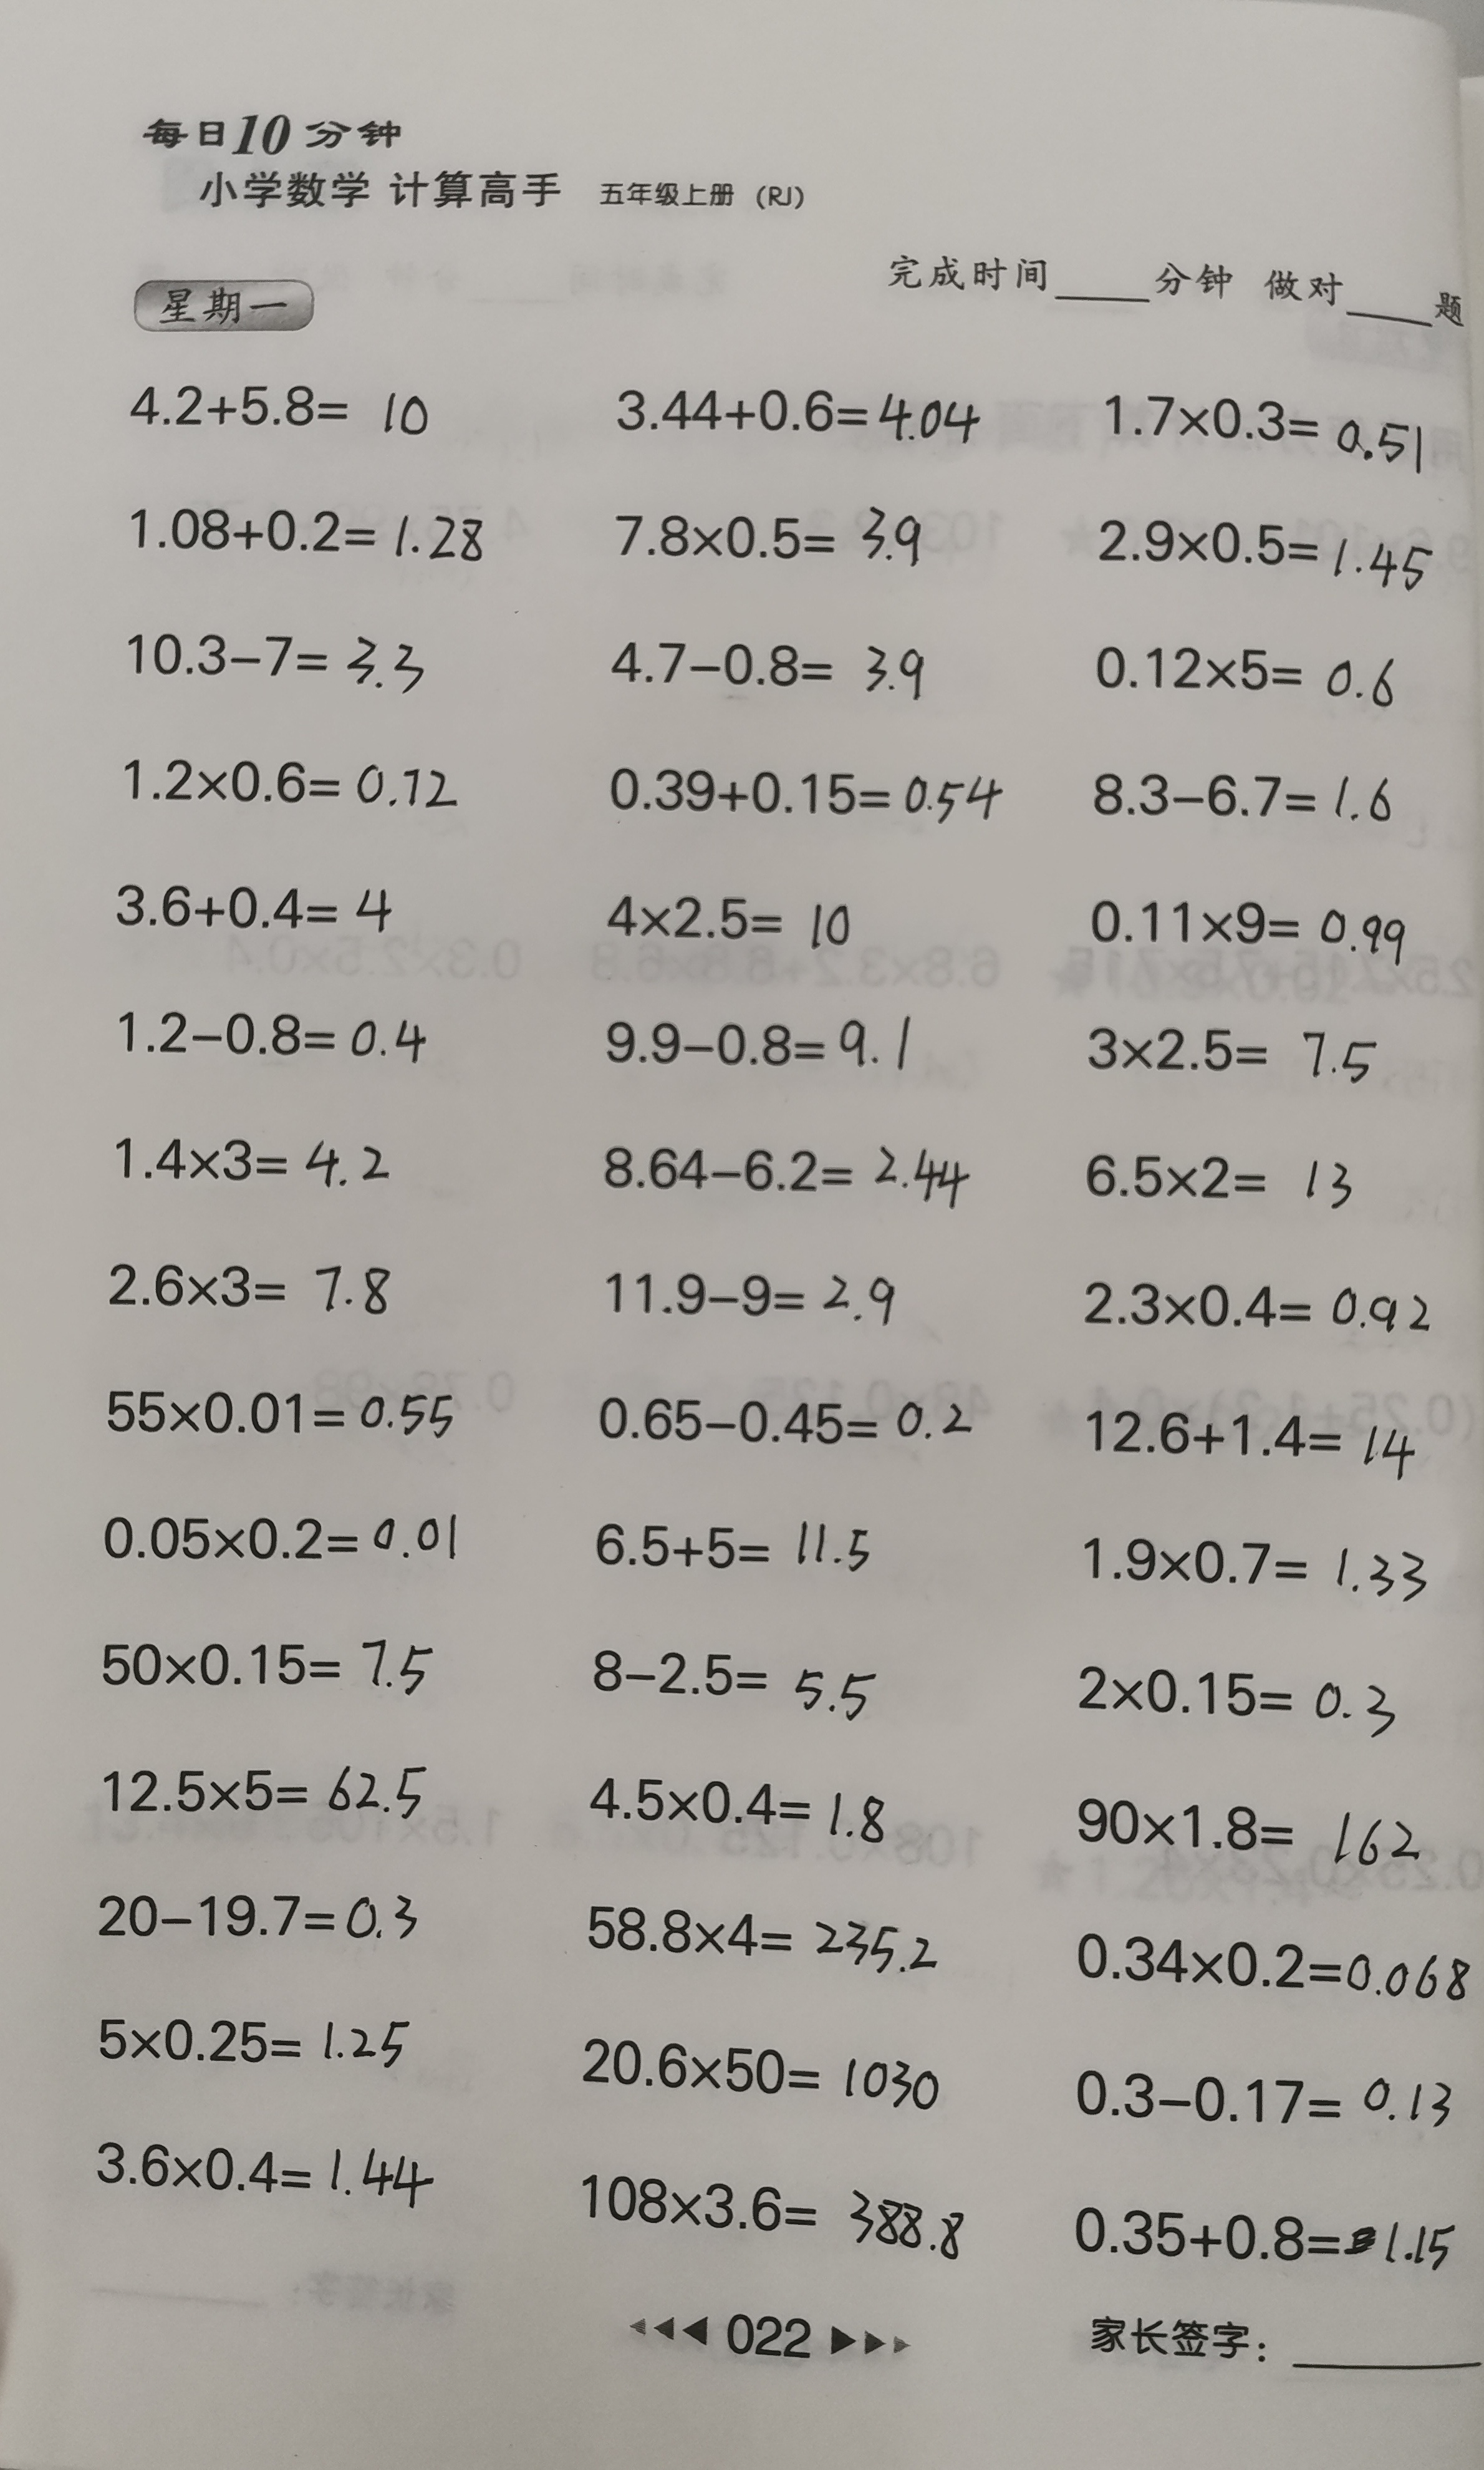equation: (570, 2158, 981, 2271), (568, 1882, 955, 1995), (1061, 1780, 1450, 1888), (593, 1117, 983, 1223), (1091, 374, 1445, 489), (1068, 2182, 1470, 2281), (561, 2020, 953, 2119), (1055, 1644, 1420, 1748), (81, 2119, 443, 2223), (596, 748, 1013, 838), (1064, 1517, 1449, 1614), (1064, 2047, 1470, 2138), (1071, 1258, 1459, 1353), (1062, 1927, 1480, 2015), (102, 489, 512, 579), (85, 1486, 498, 1574), (579, 1376, 1008, 1459), (1073, 1390, 1445, 1484), (72, 1863, 441, 1957), (598, 619, 962, 713), (97, 988, 450, 1083), (1087, 510, 1442, 603), (1076, 875, 1424, 970), (573, 1627, 902, 1727), (607, 372, 995, 457), (595, 984, 932, 1082), (79, 1623, 446, 1710), (108, 745, 487, 827), (90, 1371, 476, 1452), (113, 614, 459, 704), (579, 1763, 916, 1852), (86, 1745, 443, 1830), (1078, 750, 1417, 836), (1091, 632, 1413, 722), (591, 1249, 930, 1334), (113, 363, 455, 446), (603, 494, 944, 575), (102, 863, 416, 949), (1078, 1011, 1398, 1096), (593, 873, 881, 967), (579, 1505, 898, 1588), (86, 1247, 416, 1327), (101, 1120, 416, 1201), (85, 2004, 429, 2078), (1076, 1136, 1369, 1214)
